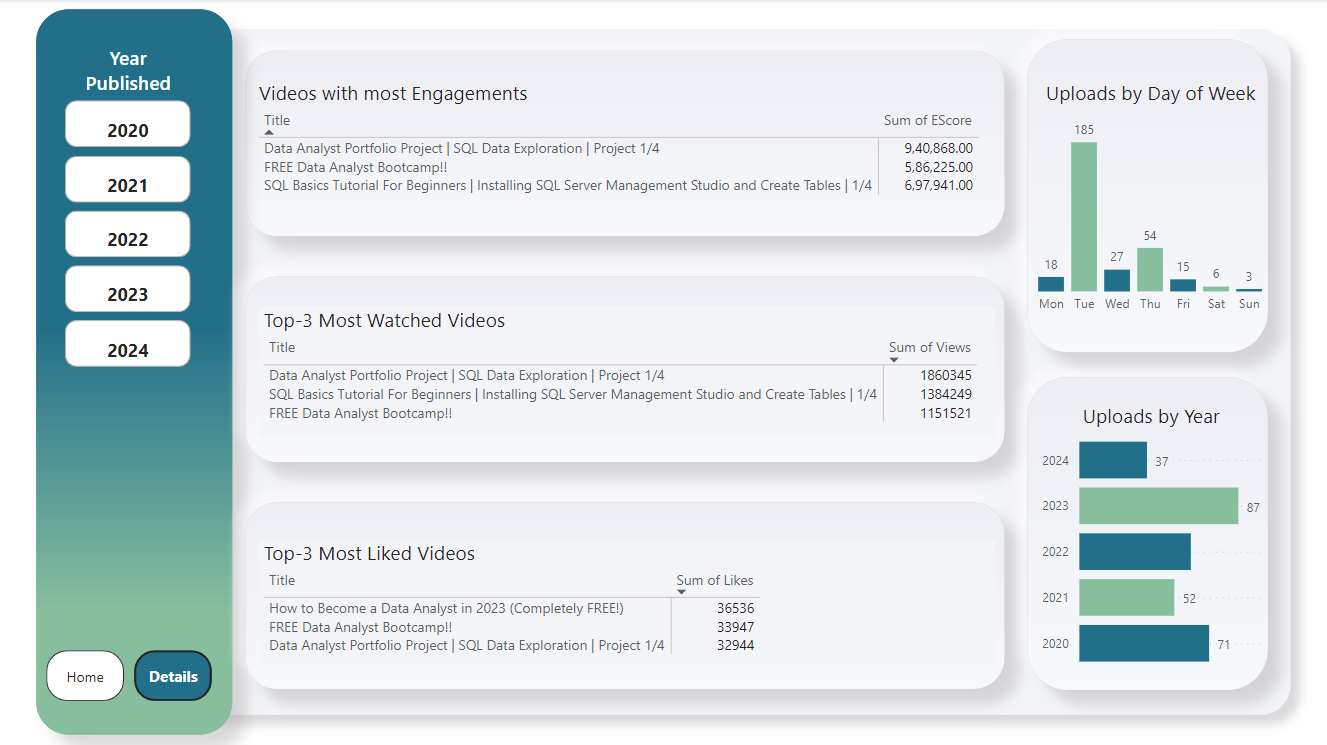

The dashboard page shown, as its layout file describes it:
{"tool":"powerbi","page":{"name":"Details","canvas":[1280,720],"ordinal":1},"visuals":[{"type":"pivotTable","title":"Videos with most Engagements","fields":{"Rows":["Alex_The_Analyst.Title"],"Values":["Alex_The_Analyst.EScore"]},"box":[244.8,77.2,723.6,126.6],"z":0},{"type":"pivotTable","title":"Top-3 Most Watched Videos","fields":{"Rows":["Alex_The_Analyst.Title"],"Values":["Alex_The_Analyst.Views"]},"box":[249.6,296.7,710.4,126.6],"z":1000},{"type":"barChart","title":"Uploads by Year","fields":{"Category":["Alex_The_Analyst.Year Published"],"Y":["Alex_The_Analyst.Title"]},"box":[998.6,389.5,224.3,262.9],"z":2000},{"type":"clusteredColumnChart","title":"Uploads by Day of Week","fields":{"Category":["Alex_The_Analyst.Day of Week"],"Y":["Alex_The_Analyst.Title"]},"box":[984.1,77.2,252.1,235.2],"z":3000},{"type":"pivotTable","title":"Top-3 Most Liked Videos","fields":{"Rows":["Alex_The_Analyst.Title"],"Values":["Alex_The_Analyst.Likes"]},"box":[249.6,521,710.4,120.6],"z":4000},{"type":"advancedSlicerVisual","fields":{"Values":["Alex_The_Analyst.Year Published"]},"box":[57.9,43.4,131.5,317.2],"z":5000},{"type":"pageNavigator","box":[44.6,628.3,160.4,49.4],"z":5001}]}

Visuals, with their boxes in screenshot pixels (x1, y1, x2, y2), scaled from the page's 1280x720 canvas onto the 1327x745 screenshot:
"Videos with most Engagements" pivotTable: pyautogui.locateOnScreen(254, 80, 1004, 211)
"Top-3 Most Watched Videos" pivotTable: pyautogui.locateOnScreen(259, 307, 995, 438)
"Uploads by Year" barChart: pyautogui.locateOnScreen(1035, 403, 1268, 675)
"Uploads by Day of Week" clusteredColumnChart: pyautogui.locateOnScreen(1020, 80, 1282, 323)
"Top-3 Most Liked Videos" pivotTable: pyautogui.locateOnScreen(259, 539, 995, 664)
advancedSlicerVisual - Alex_The_Analyst.Year Published: pyautogui.locateOnScreen(60, 45, 196, 373)
pageNavigator: pyautogui.locateOnScreen(46, 650, 213, 701)
